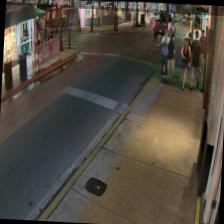person: (188, 30, 202, 88), (178, 36, 192, 89), (158, 28, 170, 75), (166, 33, 176, 82), (183, 32, 194, 70), (197, 28, 206, 72)
